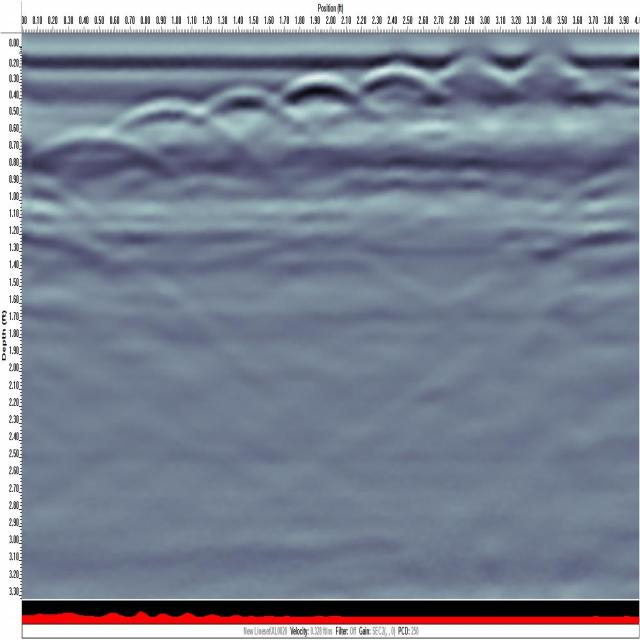hyperbola: (36, 114, 159, 185), (109, 86, 224, 149), (275, 64, 376, 130), (194, 76, 301, 136), (352, 52, 452, 115)
